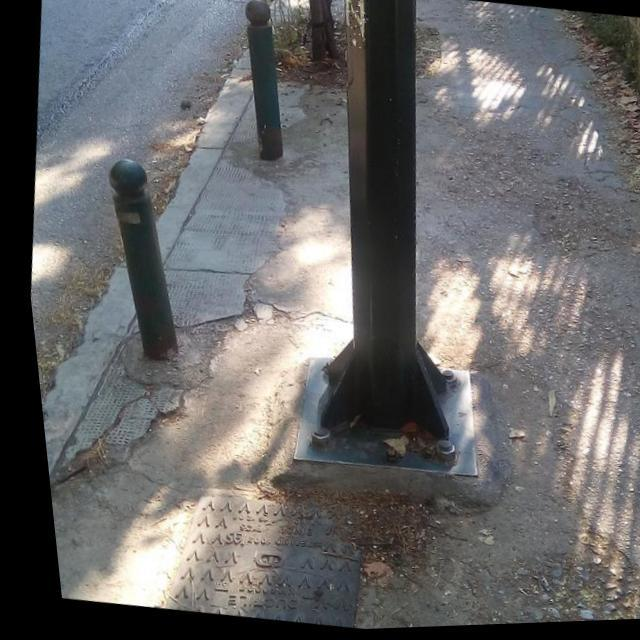-: (327, 0, 373, 53)
